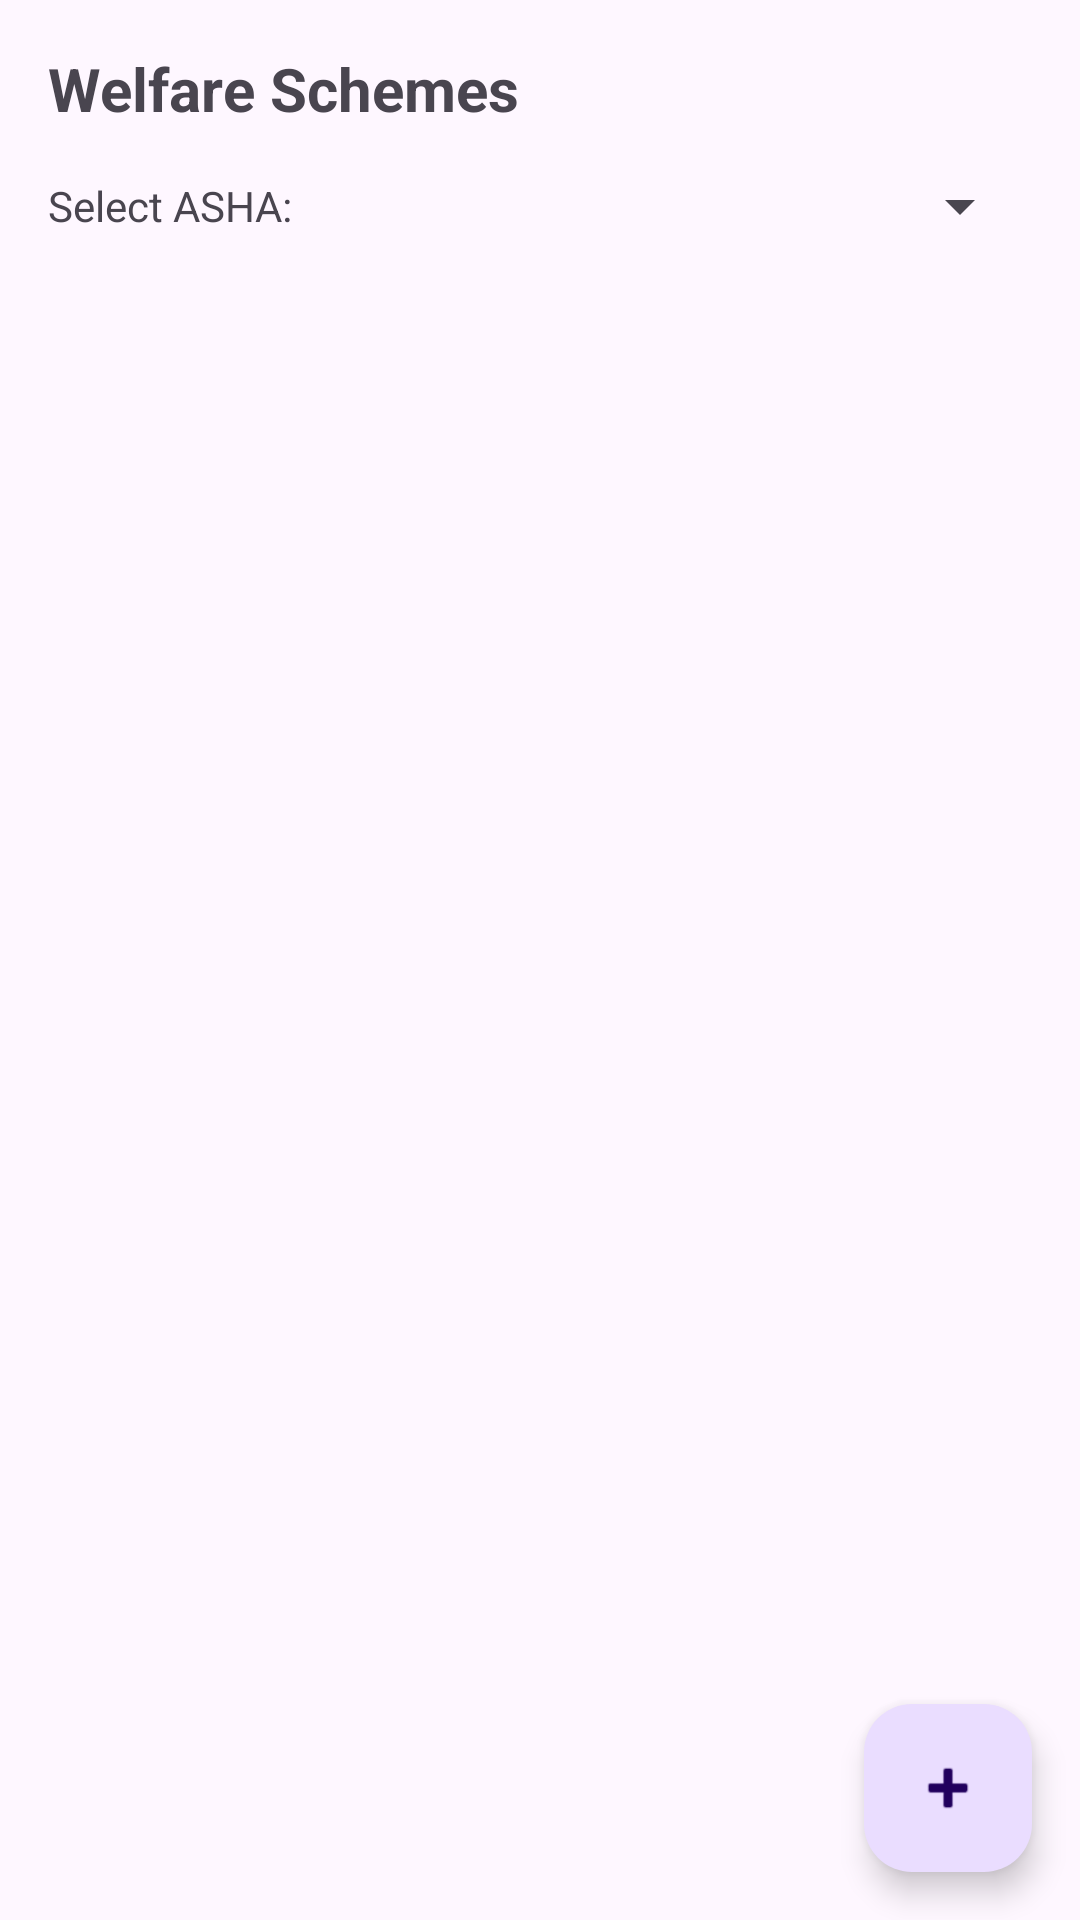

Where icons sit on this 1080×1920 app screen, as [x1, y1, x2, y2]:
Enroll in Scheme: [864, 1704, 1032, 1872]
